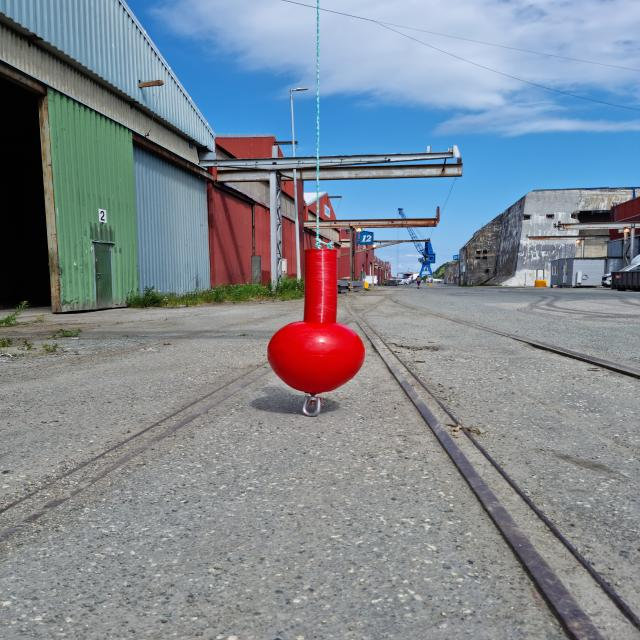red: (267, 251, 367, 394)
